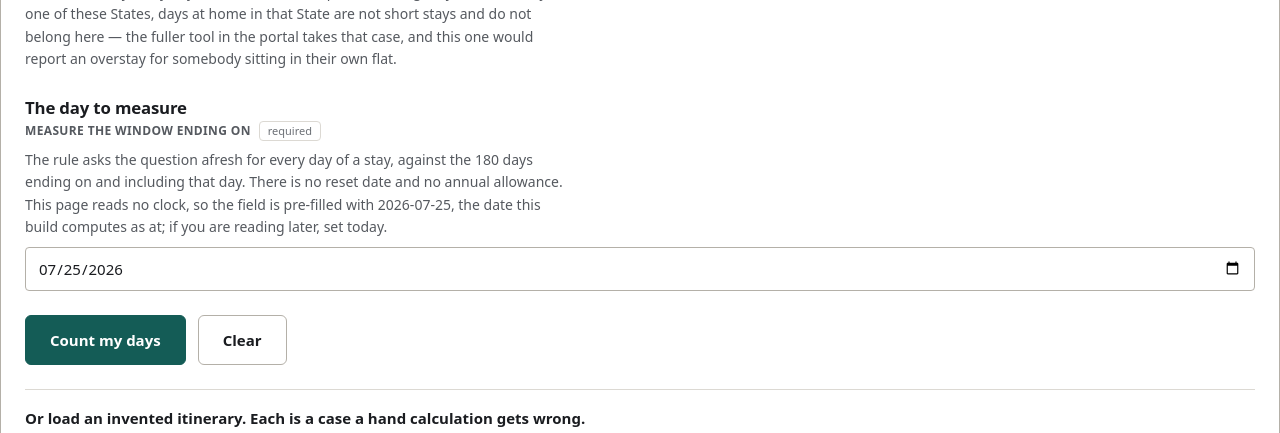
Test case: the record that cannot decide › carries a status word beside the badge glyph, never colour alone
(page scrolled)
In the date field labelled "Measure the window ending on required": (640,268) [25, 246, 1255, 290], type "2024-12-31"
(page scrolled)
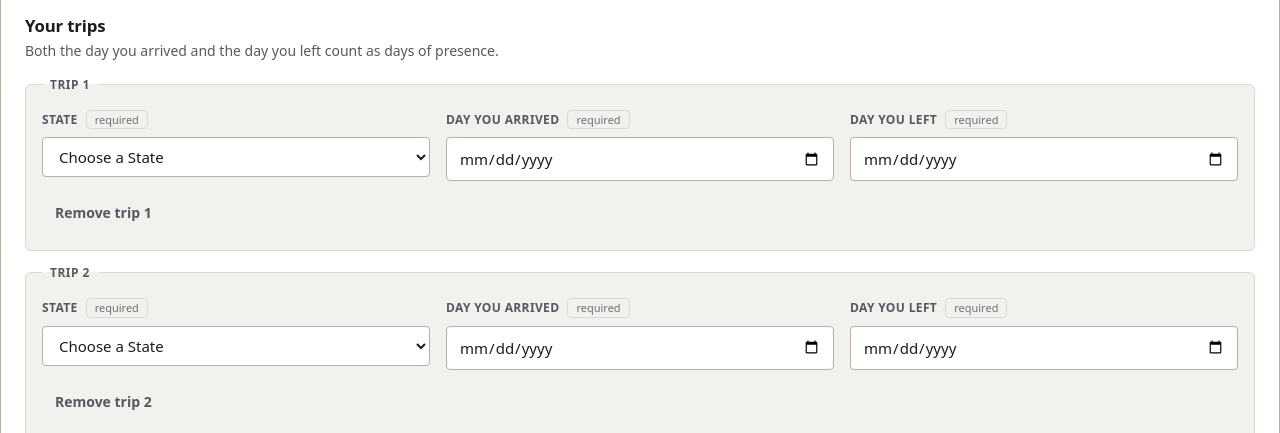
Select "Spain" in the 1st dropdown labelled "State required": (236,157) [42, 137, 430, 177]
In the 1st date field labelled "Day you arrived required": (640,159) [446, 137, 834, 181], type "2024-10-01"
In the 1st date field labelled "Day you left required": (1044,159) [850, 137, 1238, 181], type "2024-12-01"
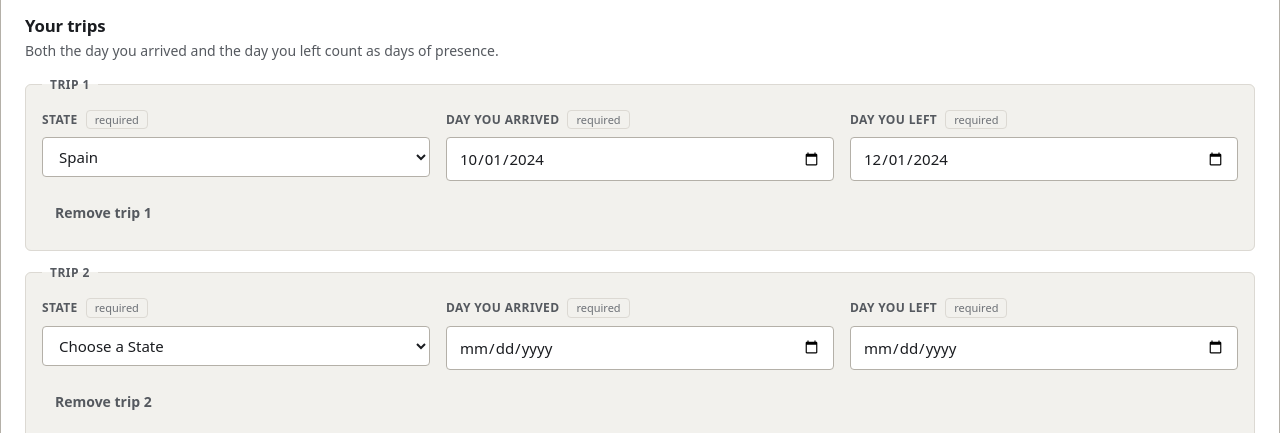
Select "Bulgaria" in the 2nd dropdown labelled "State required": (236,346) [42, 326, 430, 366]
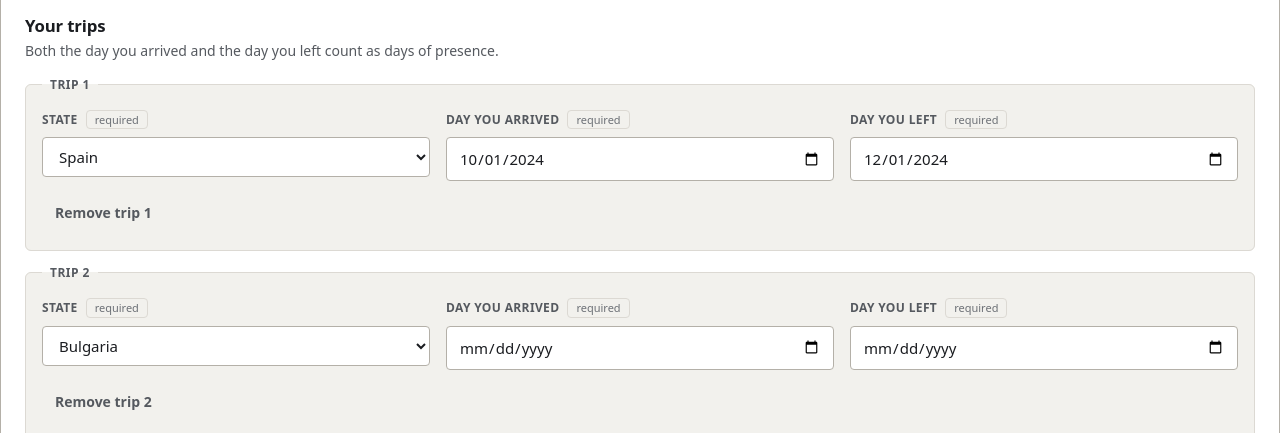
In the 2nd date field labelled "Day you arrived required": (640,348) [446, 326, 834, 370], type "2024-12-02"
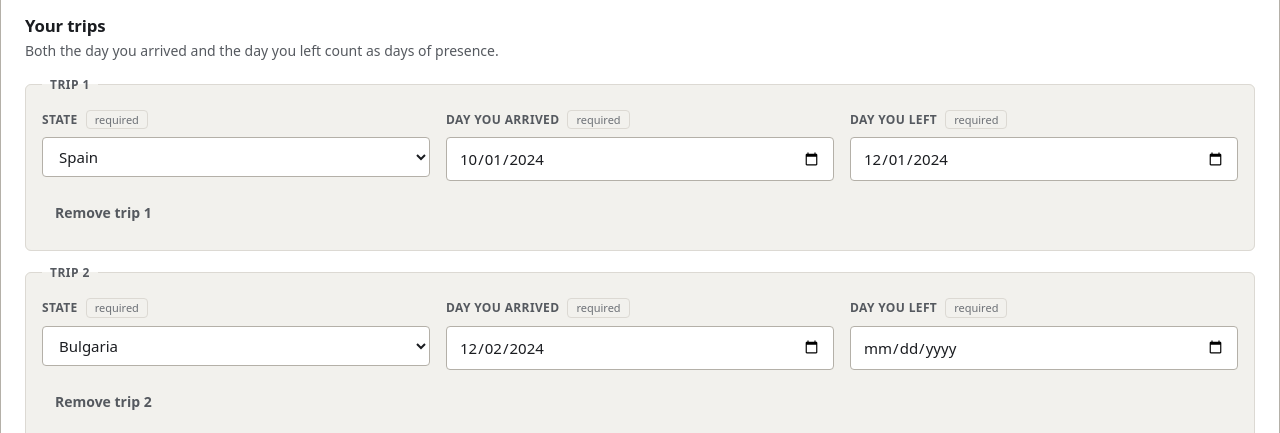
In the 2nd date field labelled "Day you left required": (1044,348) [850, 326, 1238, 370], type "2024-12-31"
(page scrolled)
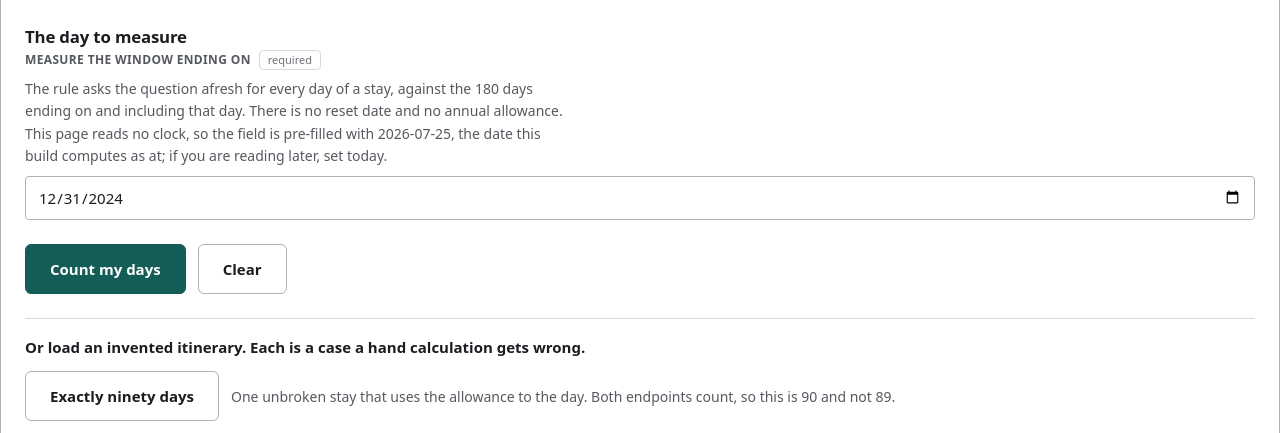
Click the button "Count my days": (105,268) [25, 244, 186, 294]
(page scrolled)
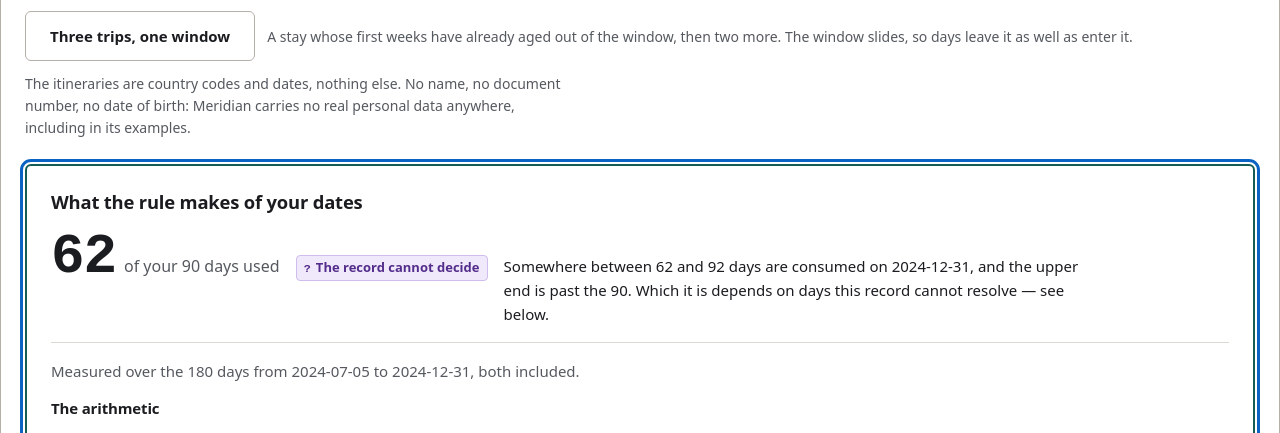
Now the text "The record cannot decide" is shown, box [316, 258, 480, 276]
Now the text "?" is shown, box [304, 261, 311, 277]
